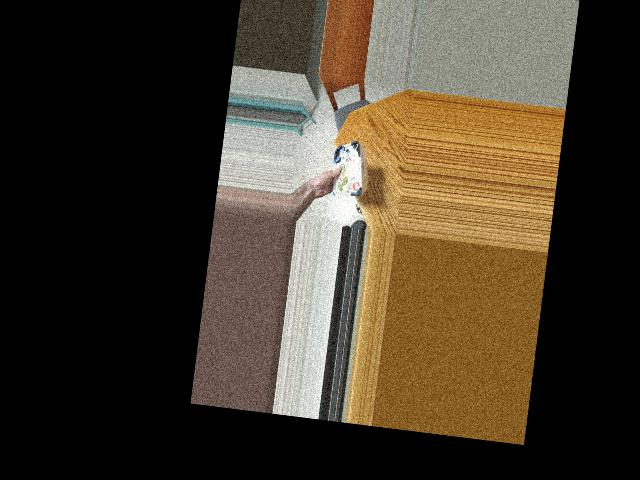cheese: (324, 141, 369, 196)
